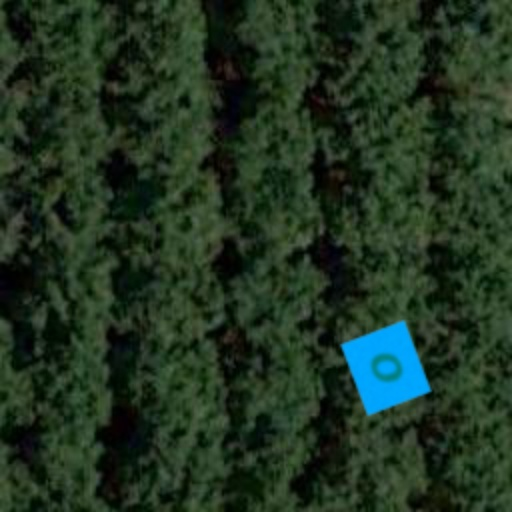rectangle: (336, 318, 436, 418)
